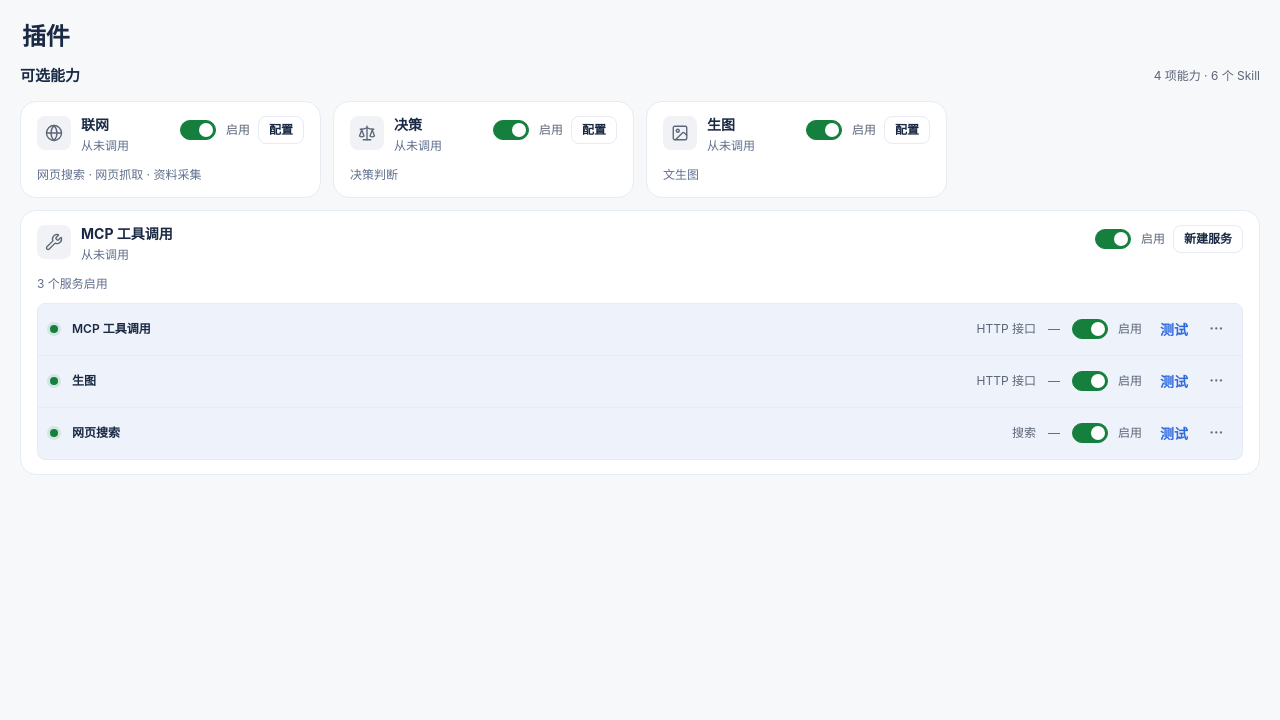
Scenario: Addons 插件页（2026-10-20 定名：原「外挂能力」） › MCP 行不套 provider 配置：新建服务在能力行内，直接打开 MCP 弹窗
The width and height of the screenshot is (1280, 720).
Click the button "新建服务" at (1208,239), box 1173,225 -> 1243,253
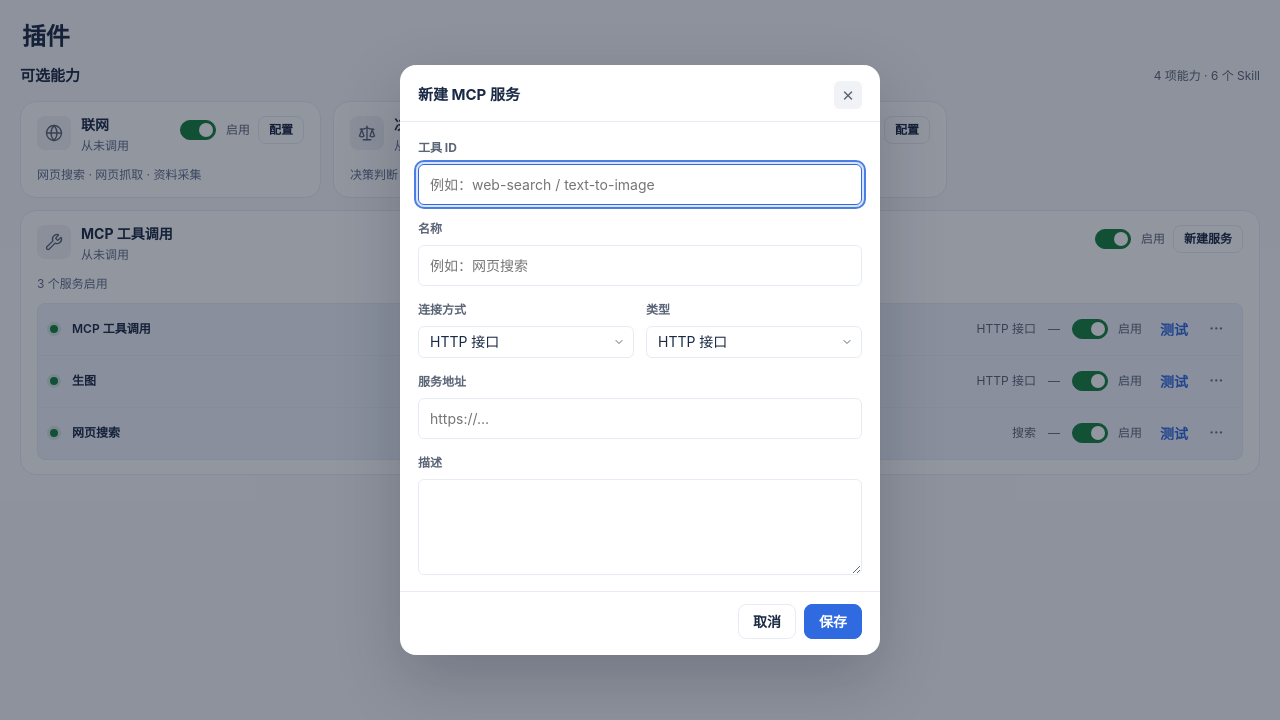
Expected: the dialog named "MCP 服务" is shown, 400,65 -> 880,655
